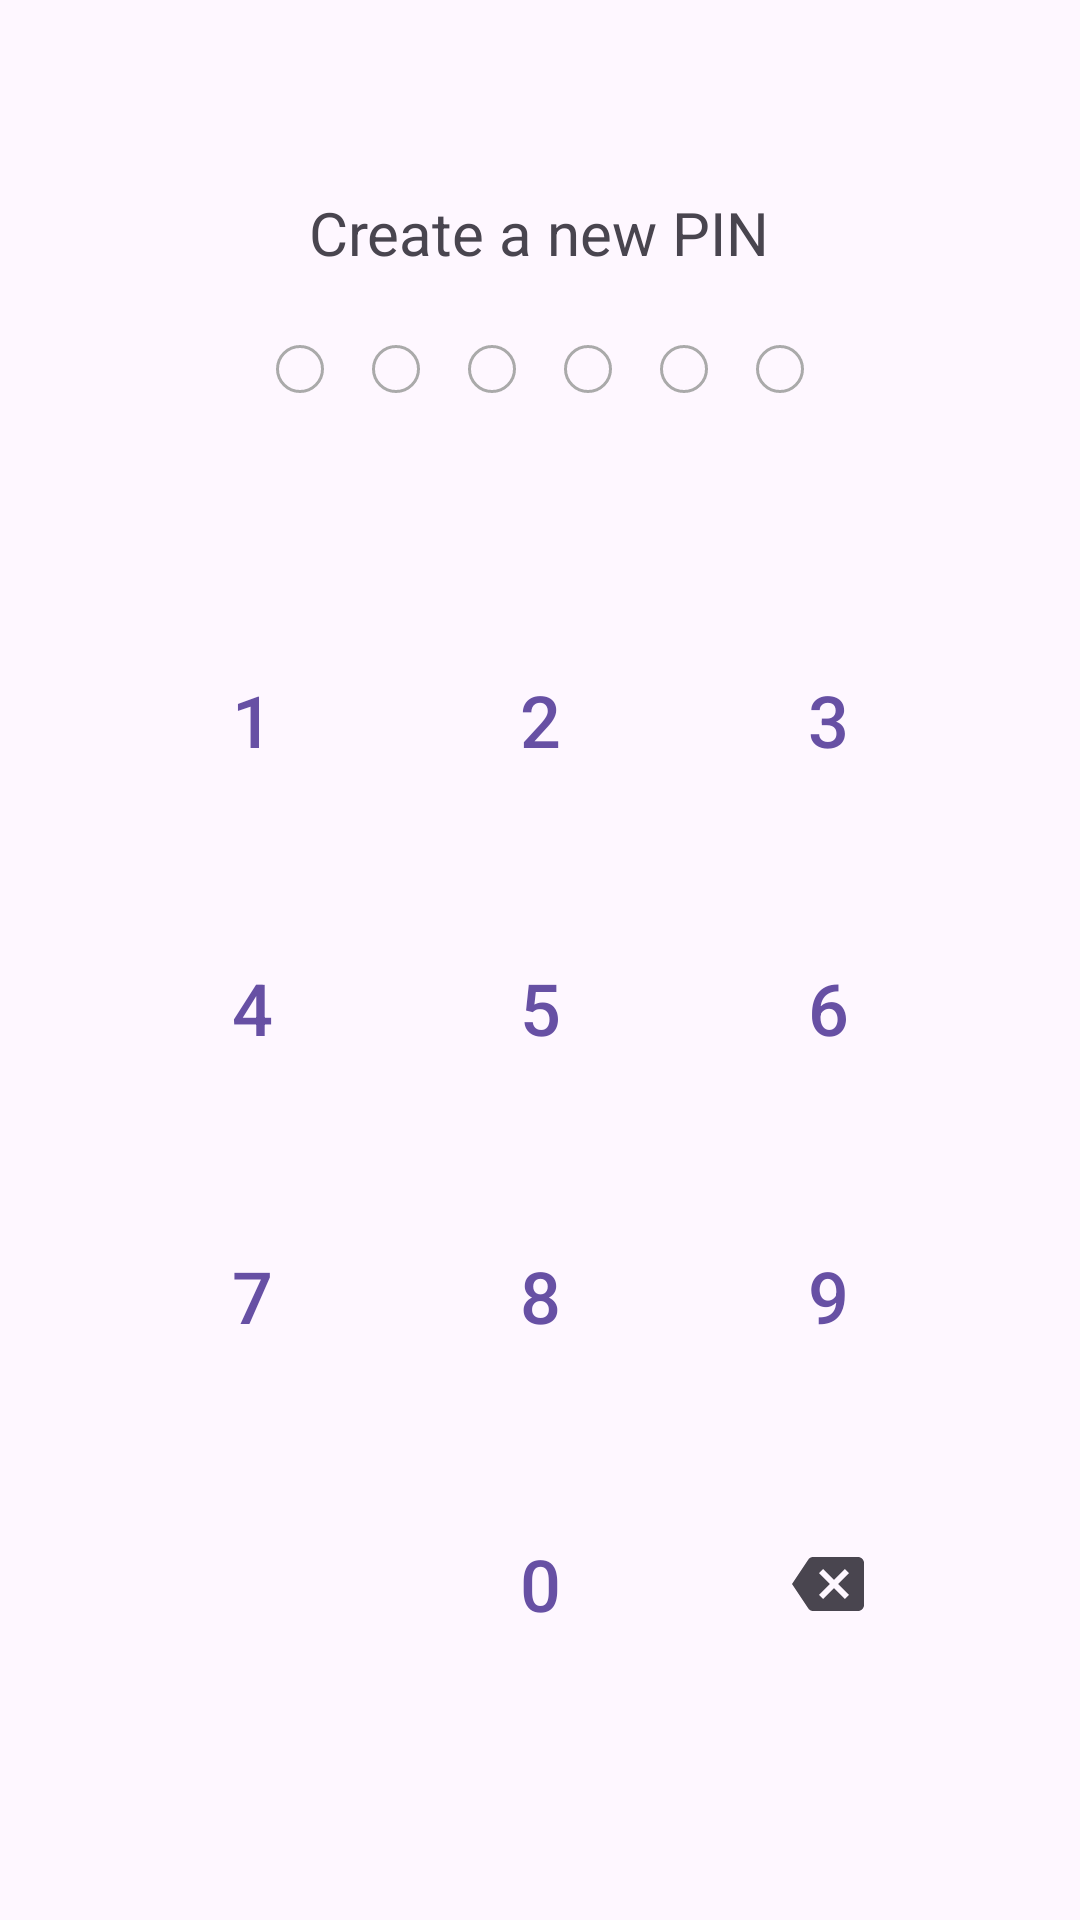

Screen size 1080w x 1920h. Icon name, then its box in pixels as (x1, y1, x2, y2):
Backspace: (792, 1557, 864, 1611)
